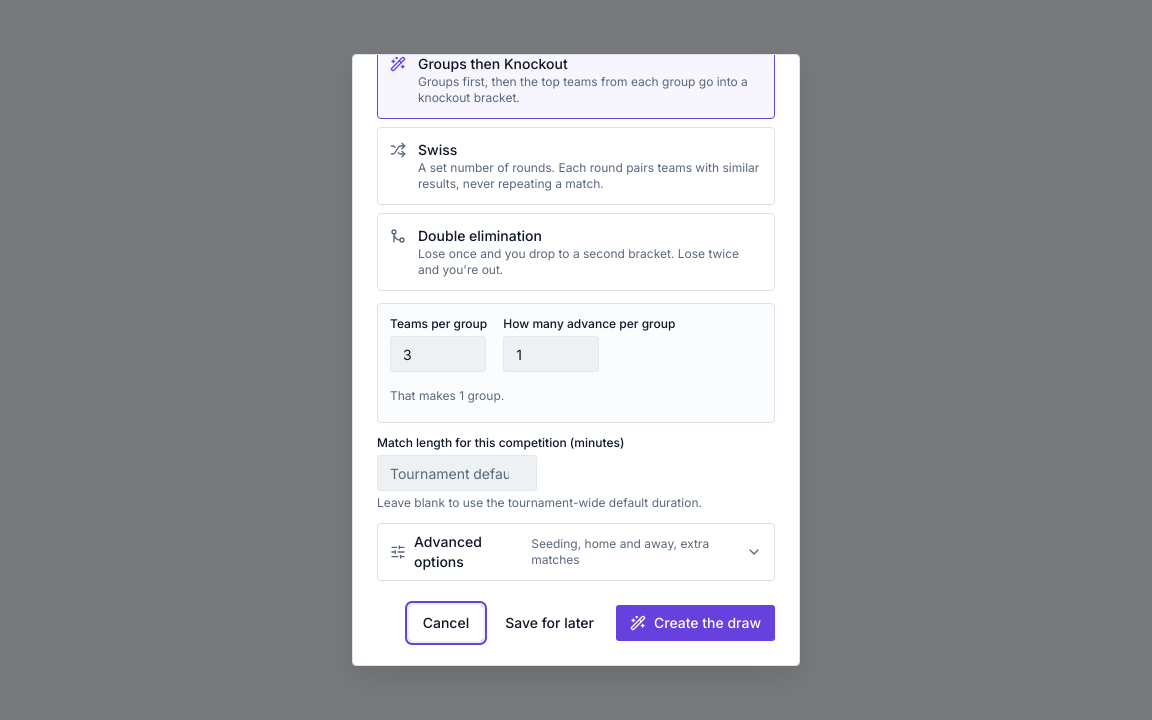
Test case: CompetitionFormatWizard › prefills every stored answer from draw_config[leaf]
(page scrolled)
Expected: the number field with test id "group-size" holds "3", [390,336,486,372]
Expected: the number field with test id "advance-per-group" holds "1", [503,336,599,372]
What coordinates should you click on to do the following:
click the button with test id "advanced-options"
I would click on:
 (576, 552)
Its box is [378,524,774,580].
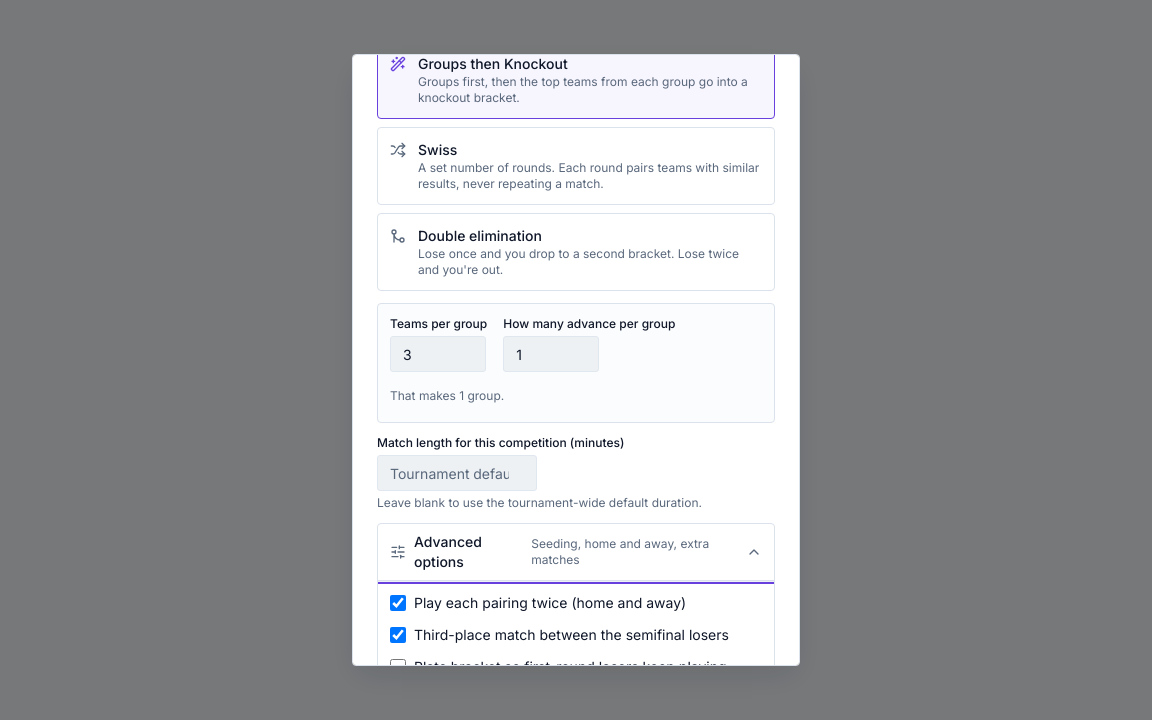
Expected: the checkbox with test id "two-legs" is checked, [390,595,406,611]
Expected: the checkbox with test id "third-place" is checked, [390,627,406,643]
